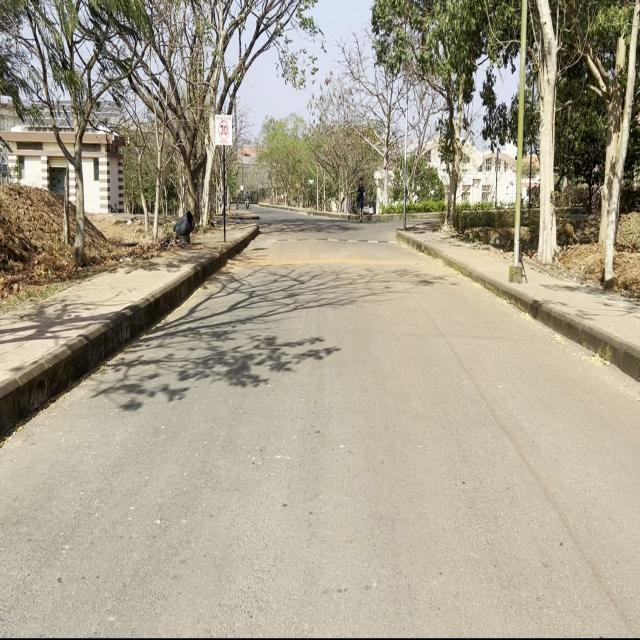Road: (0, 212, 638, 630)
